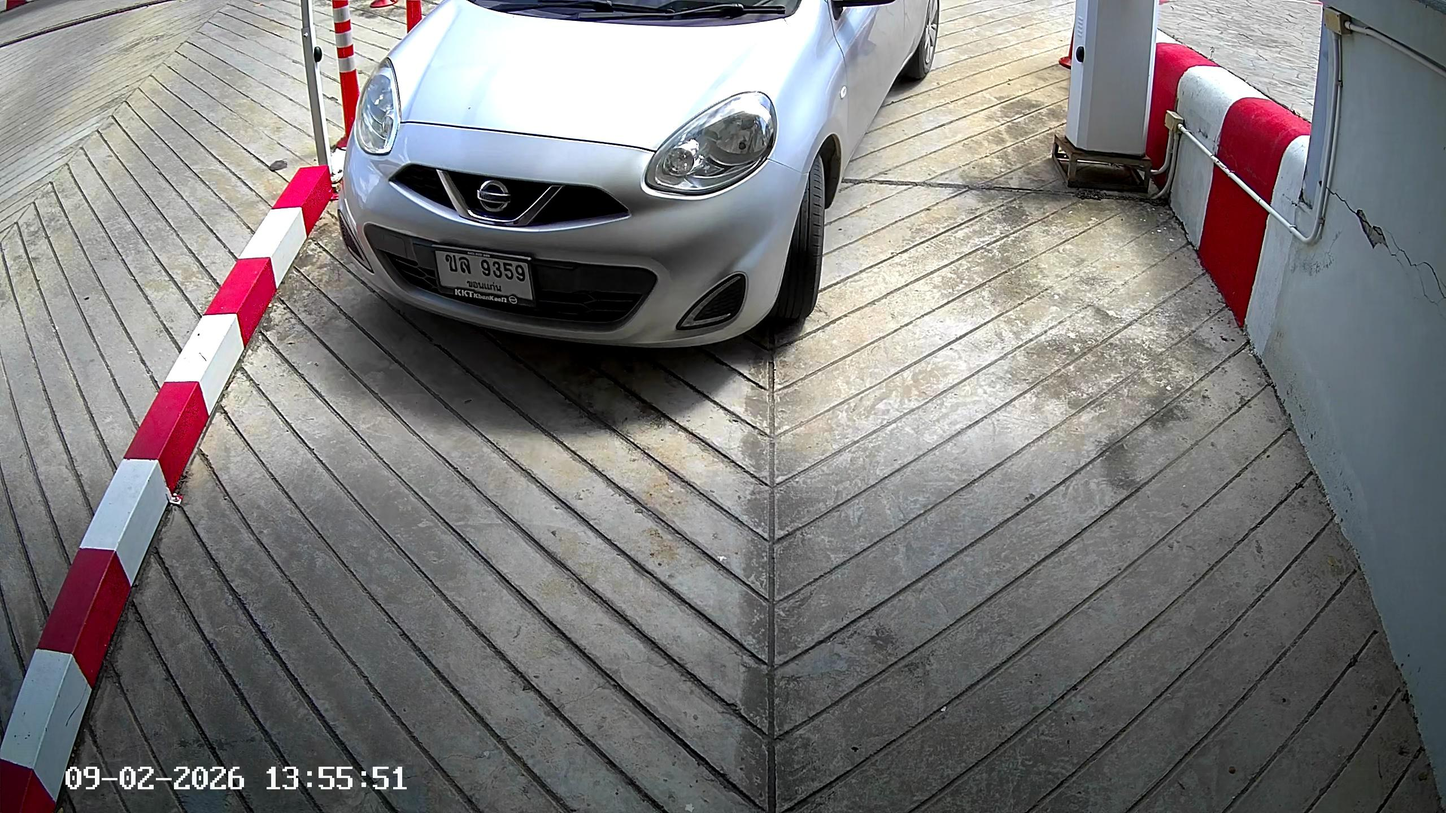car: (336, 4, 940, 355)
license-plate: (432, 240, 538, 312)
